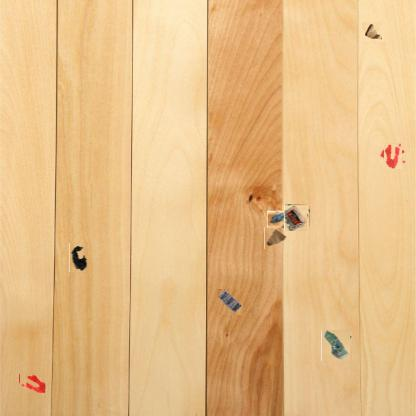dirty: (321, 330, 351, 361), (217, 289, 243, 315), (283, 205, 309, 230), (69, 242, 88, 272), (264, 228, 287, 250), (362, 22, 384, 42), (267, 210, 286, 228)
liquid: (382, 143, 404, 167), (19, 373, 45, 393)
